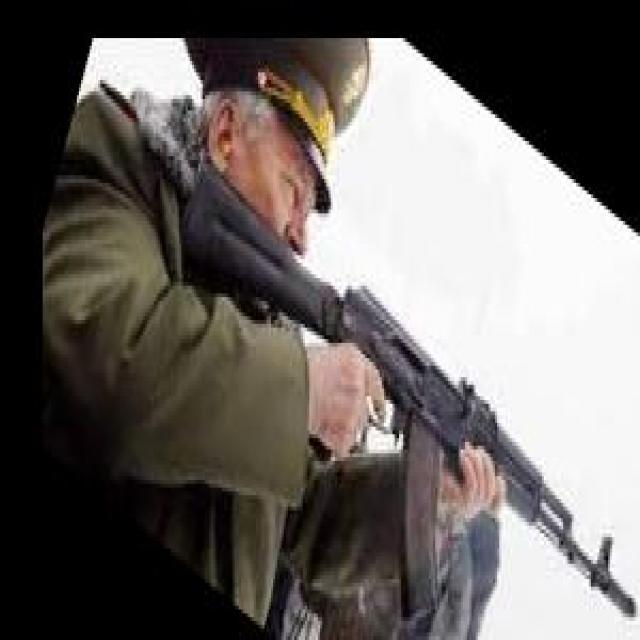weapon: (180, 159, 636, 640)
